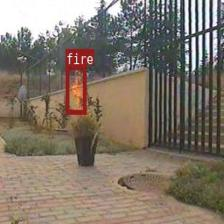fire: (65, 64, 86, 114)
